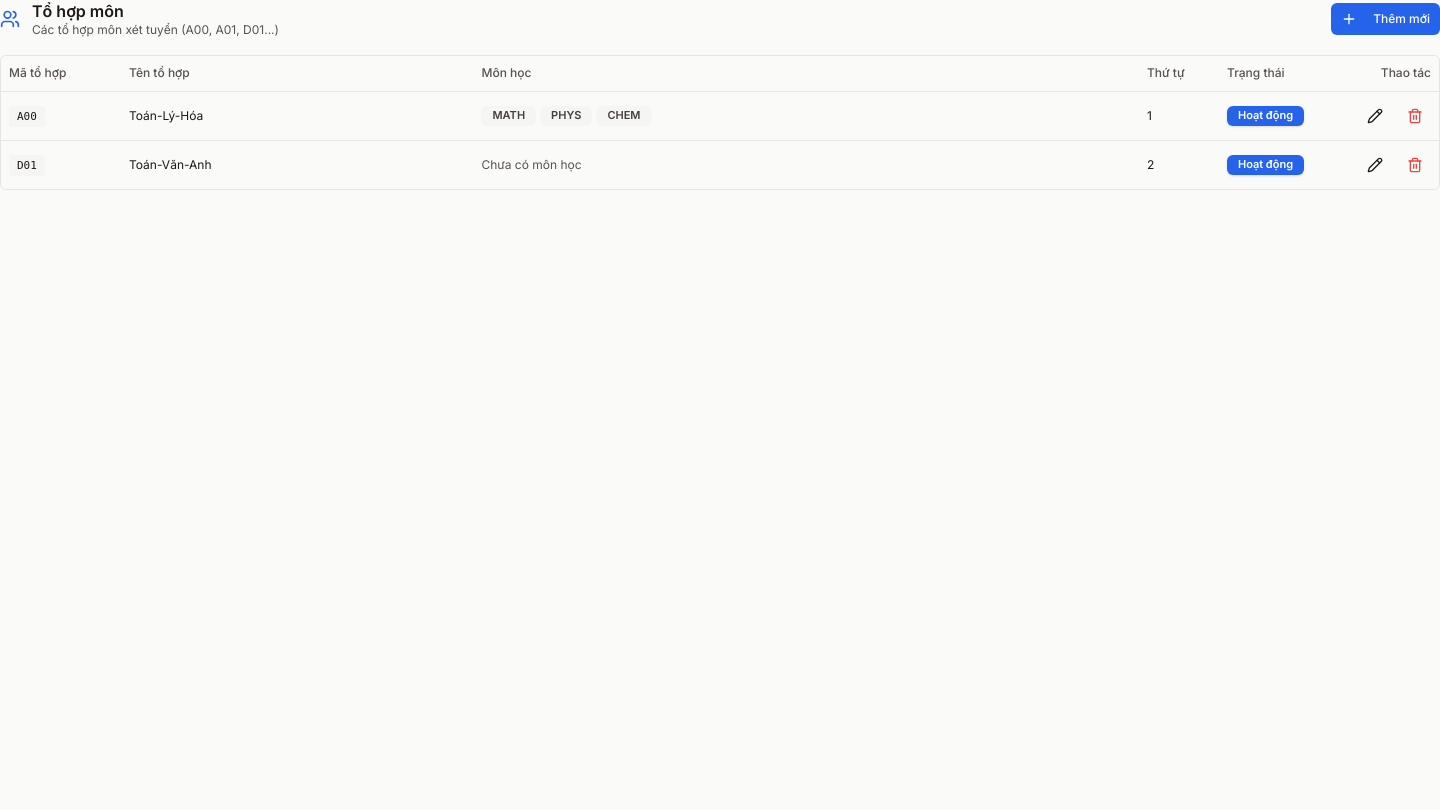
Test: SubjectGroupPanel › should open edit dialog and populate data correctly
Note: Edit "A00" (Row 1)
What coordinates should you click on to do the following:
click the button named "Chỉnh sửa" in the row of "Toán-Lý-Hóa"
I would click on:
 (1375, 116)
Its box is [1359,100,1391,132].
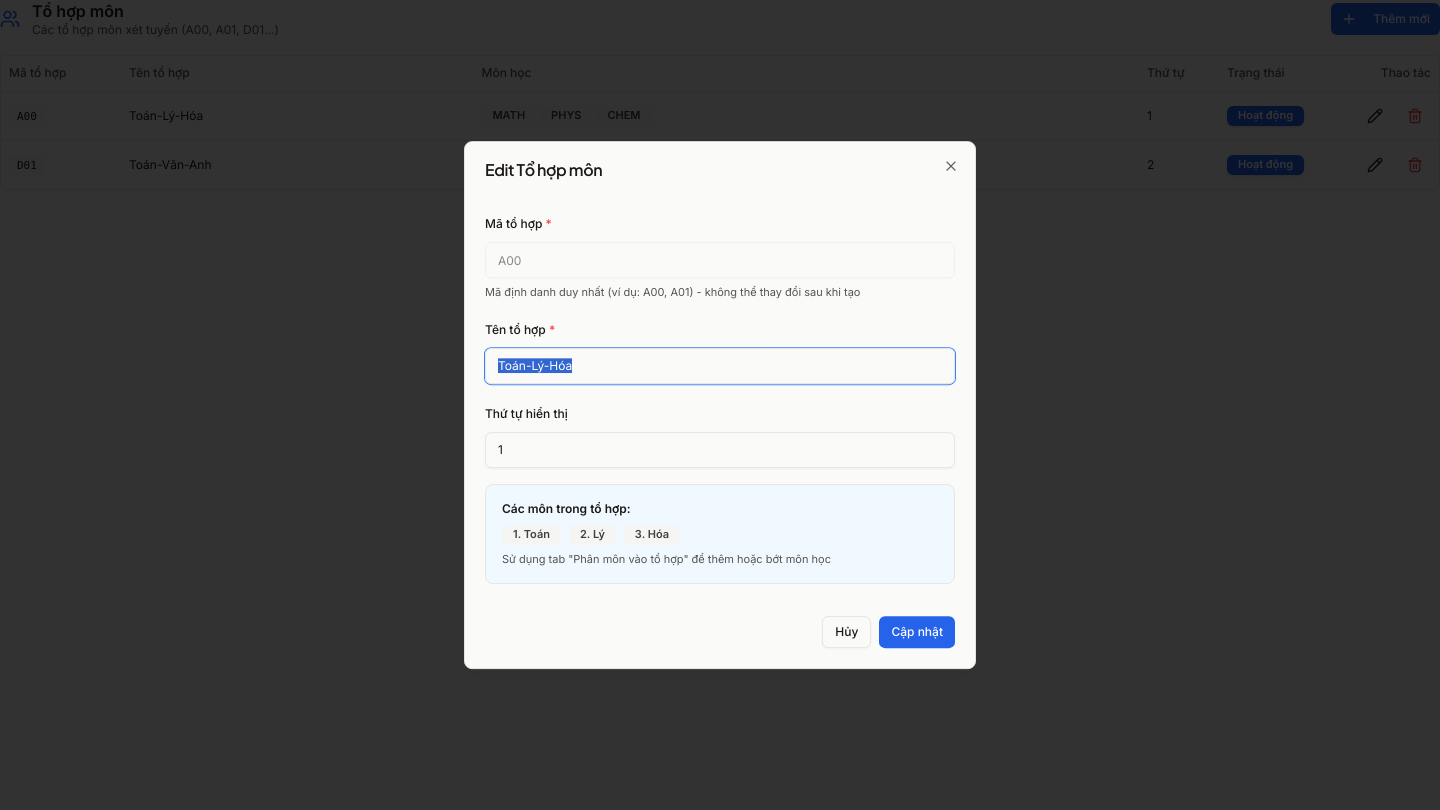
Expected: the dialog is shown, [464,141,976,669]
Expected: the field labelled "Mã tổ hợp *" holds "A00", [485,242,955,278]
Expected: the field labelled "Mã tổ hợp *" is disabled, [485,242,955,278]
